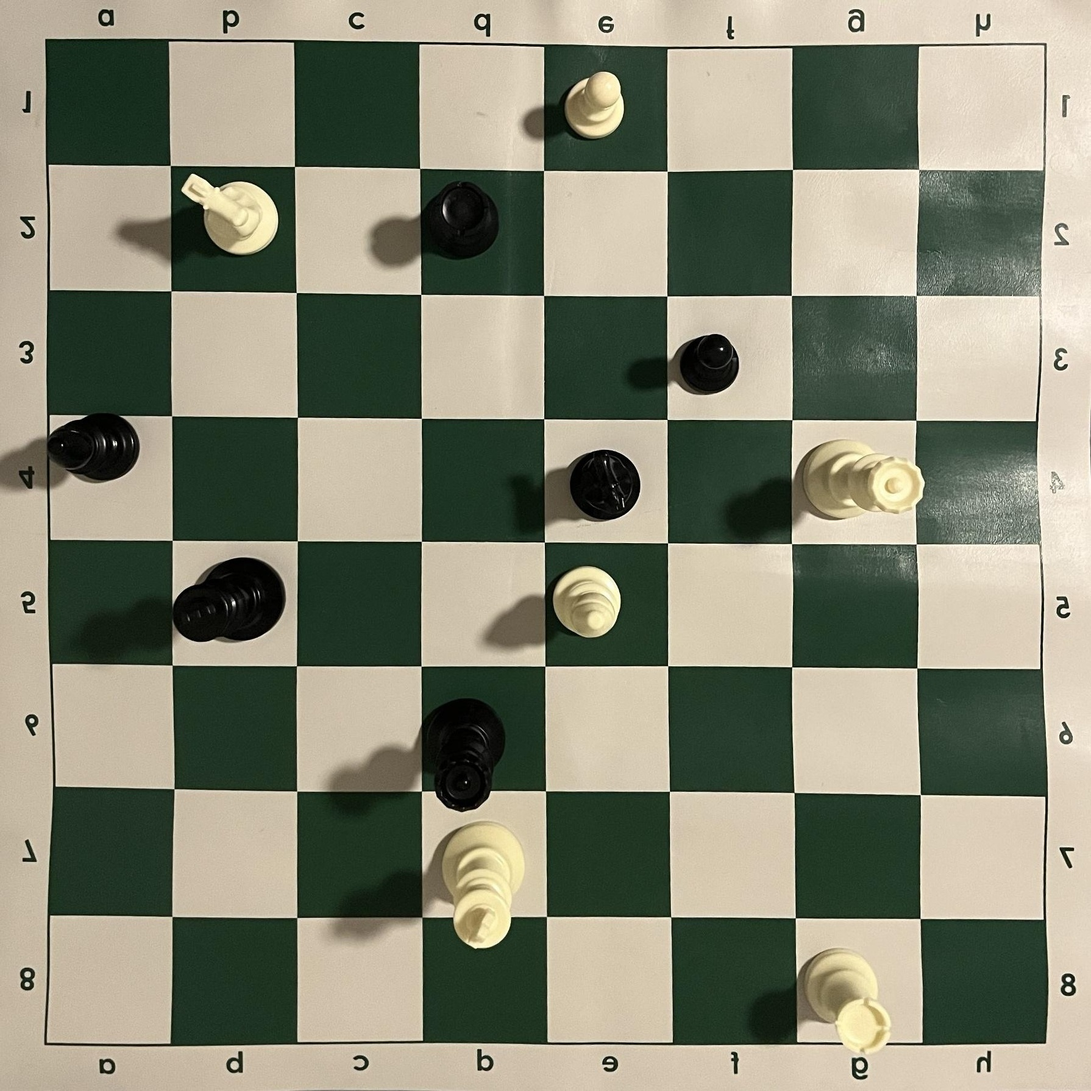black_bishop: (46, 413, 141, 483)
black_king: (172, 557, 286, 643)
black_knight: (568, 450, 642, 522)
black_pawn: (675, 334, 740, 395)
black_queen: (421, 698, 506, 814)
black_rook: (424, 181, 500, 260)
white_bishop: (552, 565, 623, 639)
white_king: (440, 820, 526, 950)
white_knight: (181, 173, 280, 256)
white_pawn: (563, 70, 625, 140)
white_queen: (801, 438, 926, 520)
white_rook: (800, 947, 893, 1053)
